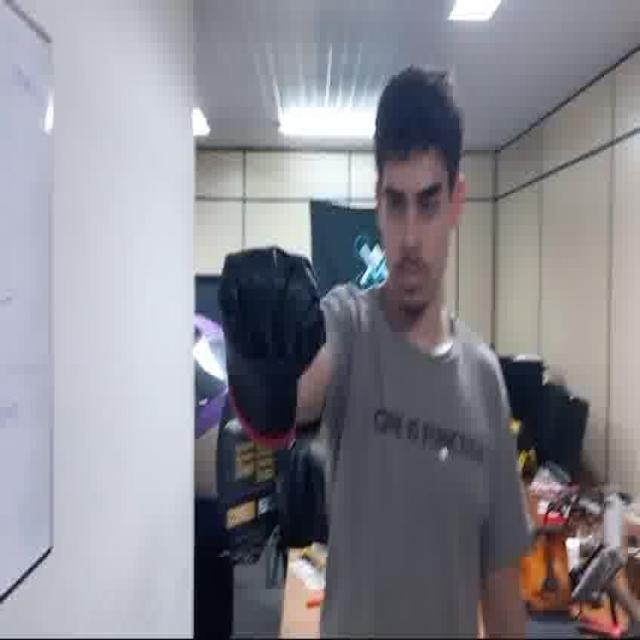Gloves: (209, 232, 330, 434)
